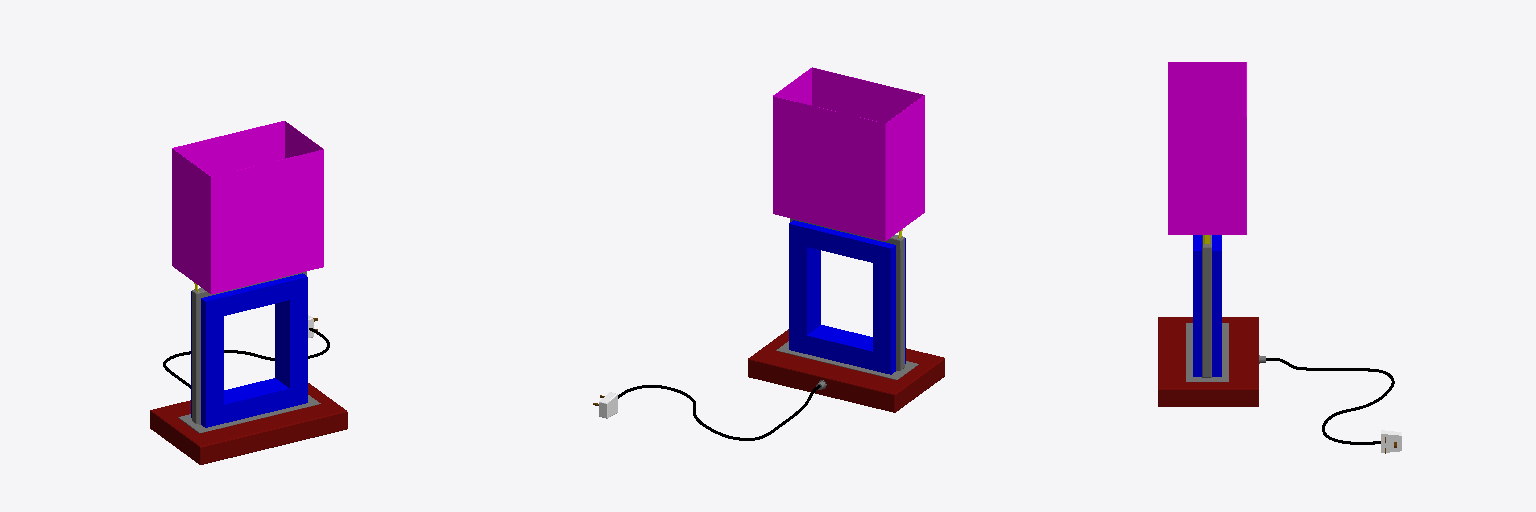
File: lamp.obj
3 renders of one model, left to right at view 1: azimuth 30°, elevation 25°; view 2: azimuth 150°, elevation 25°; view 3: azimuth 270°, elevation 25°, orthographic.
Parts seen in each view (by area): view 1: lamp_shade, pCylinder4 lamp_stand, pCylinder4 lamp_base; view 2: lamp_shade, pCylinder4 lamp_stand, pCylinder4 lamp_base, pCylinder4 lamp_cable; view 3: lamp_shade, pCylinder4 lamp_base, pCylinder4 lamp_stand, pCylinder4 lamp_cable.
Boxes of the visible parts, x1,y1,x2,y2 form: lamp_shade: [172, 121, 323, 294]; pCylinder4 lamp_stand: [178, 271, 320, 433]; pCylinder4 lamp_base: [150, 383, 347, 464]; lamp_shade: [773, 67, 924, 240]; pCylinder4 lamp_stand: [776, 218, 918, 379]; pCylinder4 lamp_base: [748, 329, 944, 412]; pCylinder4 lamp_cable: [618, 385, 820, 440]; lamp_shade: [1168, 62, 1246, 234]; pCylinder4 lamp_base: [1158, 317, 1258, 406]; pCylinder4 lamp_stand: [1186, 235, 1228, 381]; pCylinder4 lamp_cable: [1266, 358, 1394, 444].
Bounding box in the file's own units: 51.93 × 61.47 × 47.04.